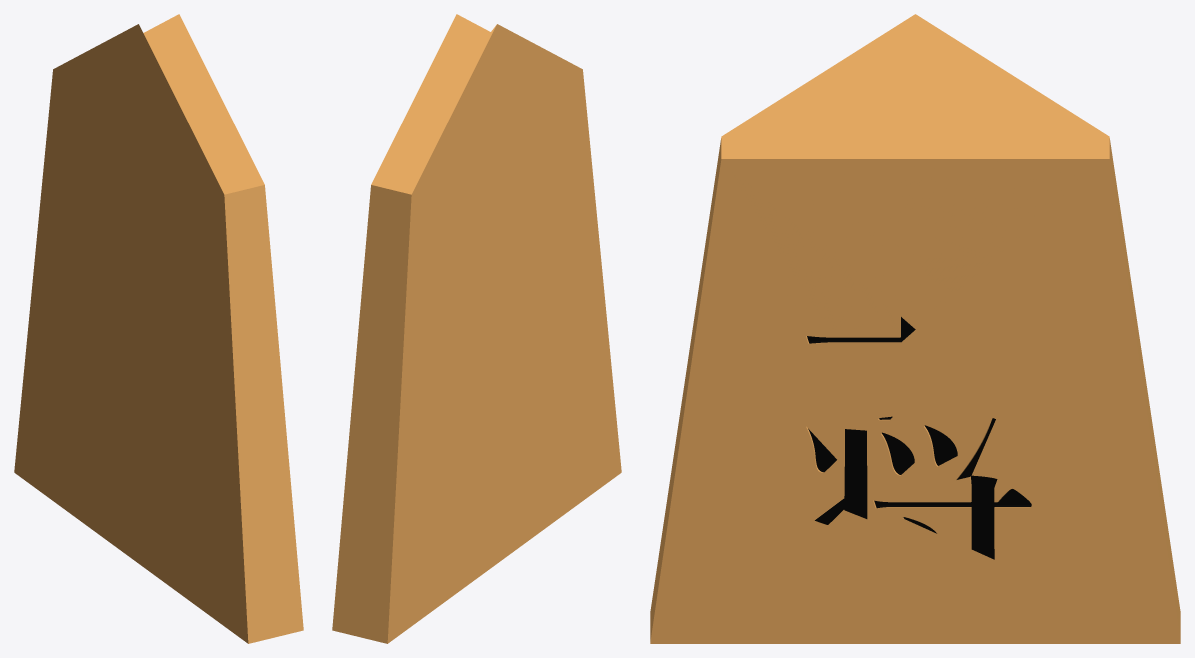
Rendered from King.fbx.
3 views of the same model, side by side, from view 1: azimuth 30°, elevation 25°; view 2: azimuth 150°, elevation 25°; view 3: azimuth 270°, elevation 25° (orthographic). The views are drawn at different scales.
Visible parts, largest first — view 1: Cube; view 2: Cube; view 3: Cube.
Part boxes in pixels (x1,y1,x2,y2): Cube: (14,14,303,643); Cube: (332,14,621,643); Cube: (650,14,1180,643).
Bounding box in the file's own units: 27.33 × 251 × 200.
2 materials, 2 textured.
